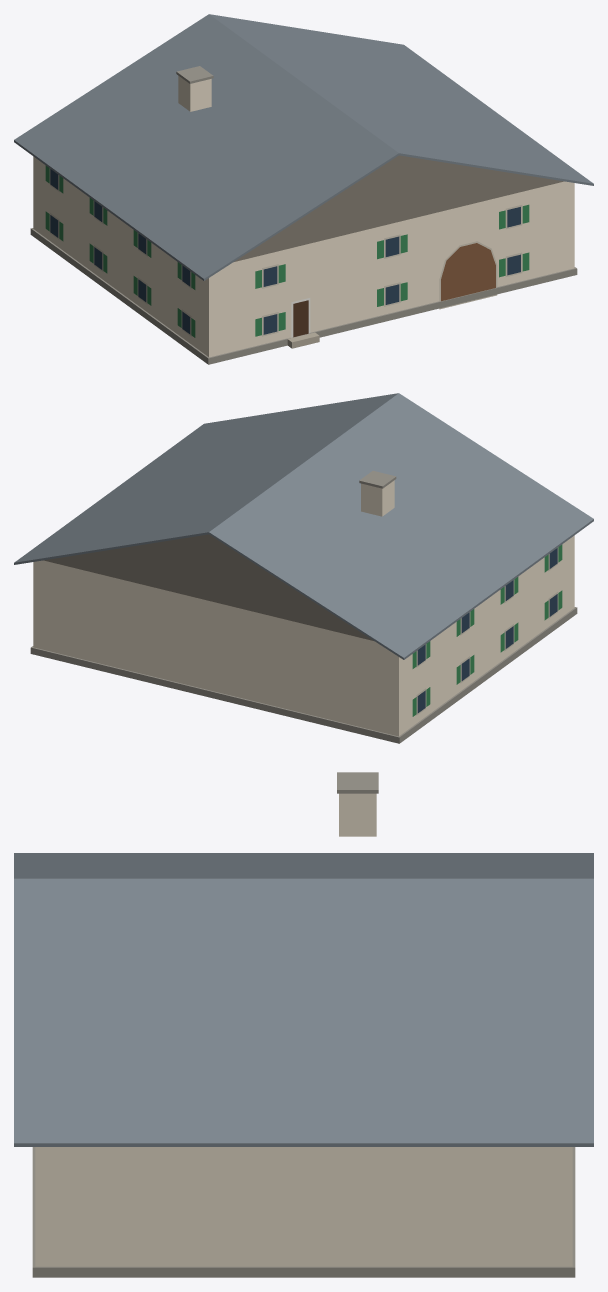
Rendered from ferme_jurassienne.glb.
3 renders of one model, top to bottom at view 1: azimuth 30°, elevation 25°; view 2: azimuth 150°, elevation 25°; view 3: azimuth 270°, elevation 25°, orthographic. The views are drawn at different scales.
Parts seen in each view (by area): view 1: ferme_jurassienne; view 2: ferme_jurassienne; view 3: ferme_jurassienne.
Boxes of the visible parts, <box> form: ferme_jurassienne: <box>14,14,593,364</box>; ferme_jurassienne: <box>14,393,593,743</box>; ferme_jurassienne: <box>14,772,593,1277</box>.
Bounding box in the file's own units: 25.6 × 12.05 × 21.6.
1 material, 1 textured.
